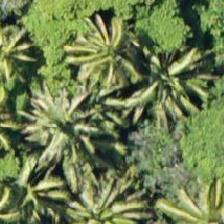coconut_tree: (21, 88, 111, 178), (65, 13, 155, 103), (125, 43, 215, 133), (0, 10, 45, 100)
